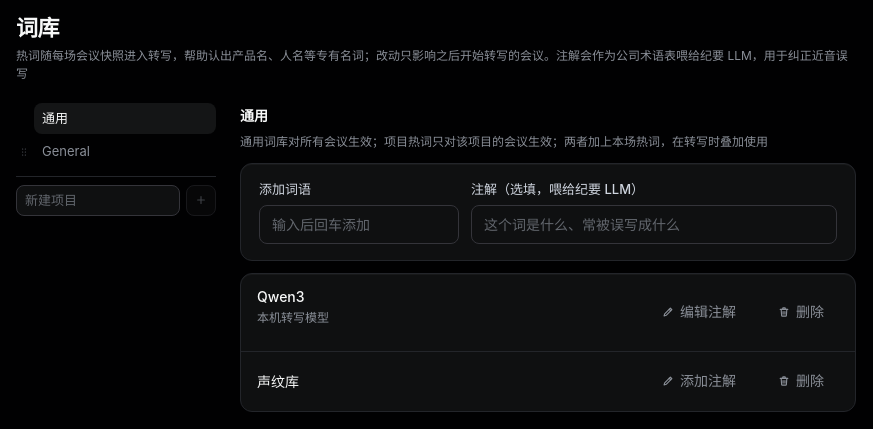
Test: 词库页 › 删除词语后从列表移除
The image size is (873, 429).
Check: the text "Qwen3" is shown, box [257, 288, 305, 305]
What coordinates should you click on to do the following:
click the button with aria-label "删除词语 Qwen3"
I would click on:
 (801, 312)
Its box is [763, 295, 839, 330].
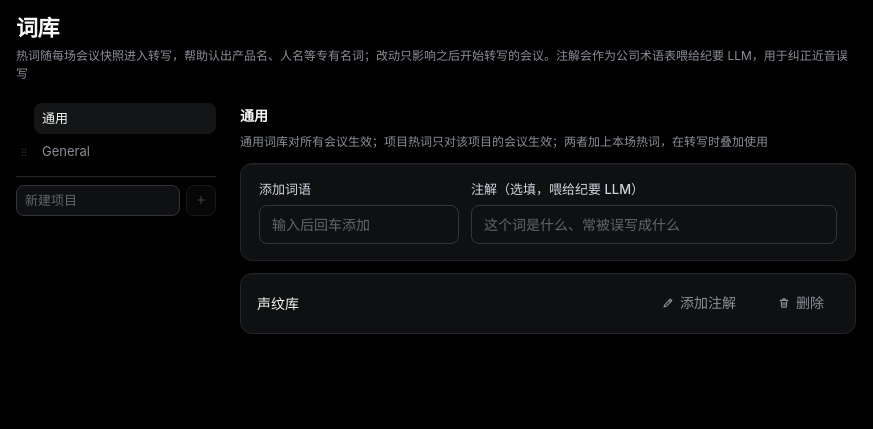
Check: the text "声纹库" is shown, box [257, 295, 299, 312]
Check: the text "Qwen3" is gone
